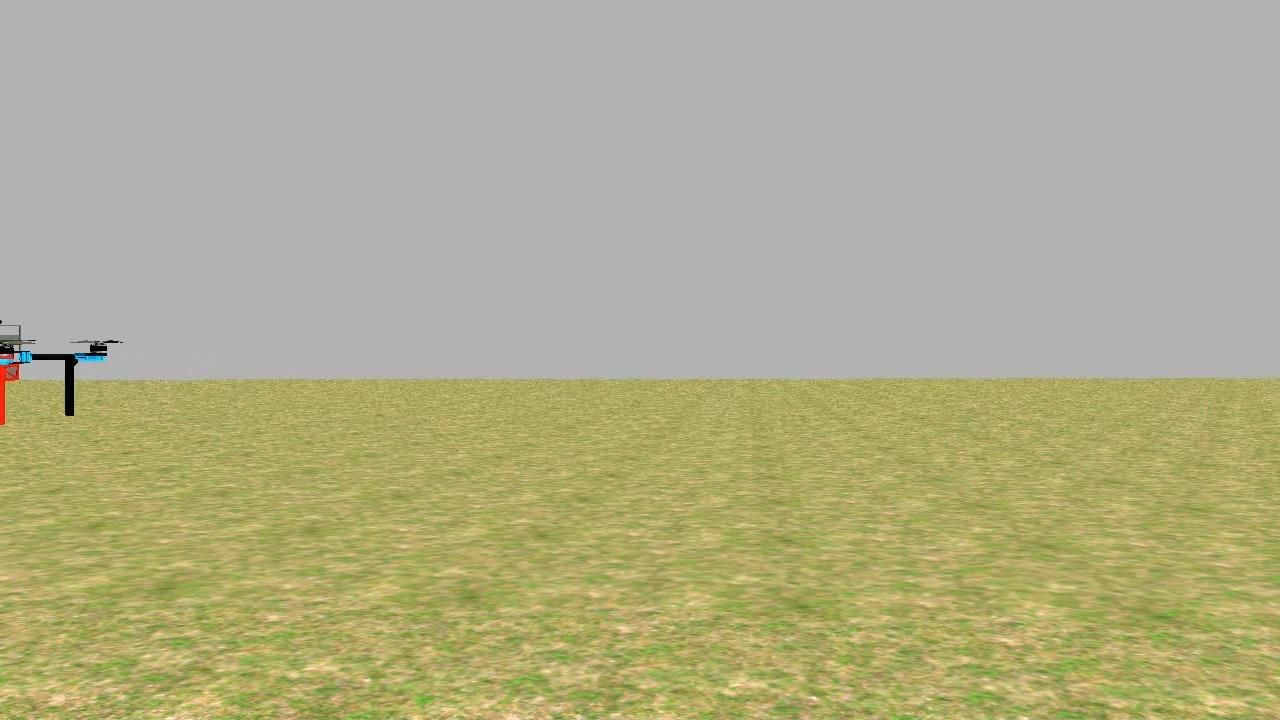UAV: (0, 308, 123, 435)
